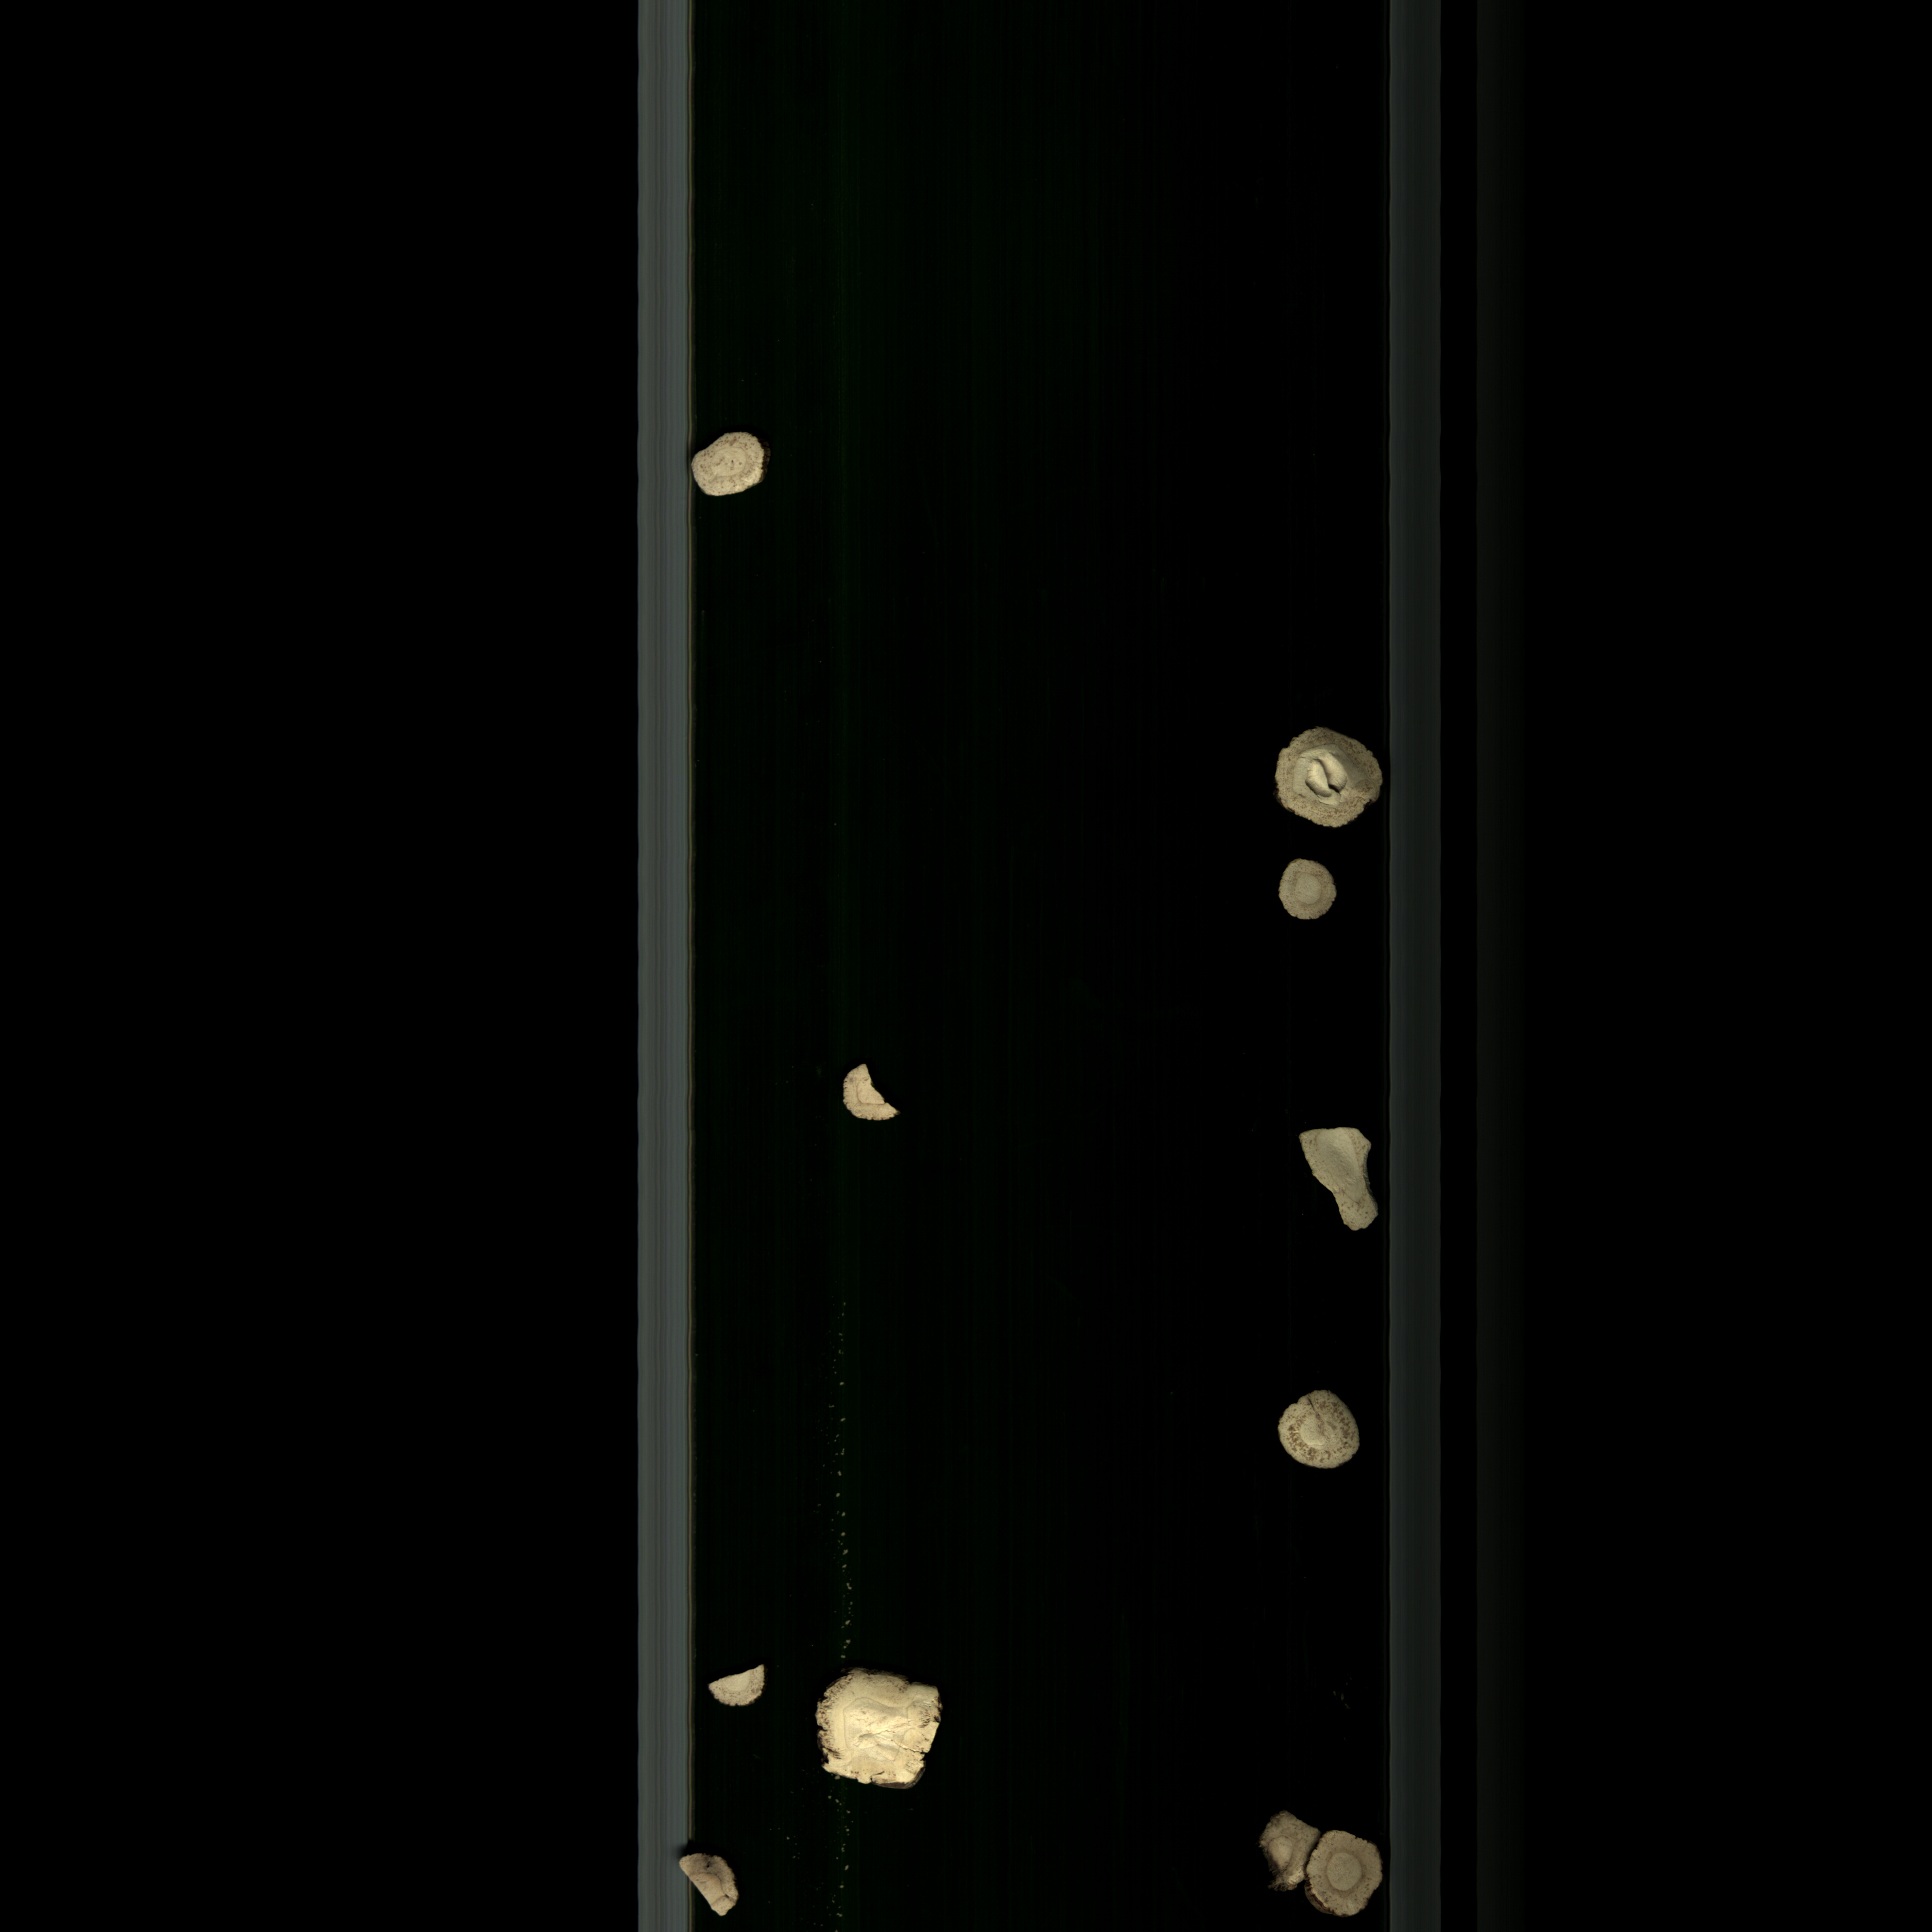debris: (1284, 1116, 1384, 1238)
distortion: (814, 1661, 954, 1805)
dreg: (672, 1851, 750, 1921), (840, 1058, 906, 1131), (704, 1663, 777, 1711)
moldy: (1260, 722, 1385, 837), (1270, 1384, 1368, 1479), (1240, 1803, 1323, 1895), (1299, 1833, 1385, 1920), (685, 428, 777, 506)
